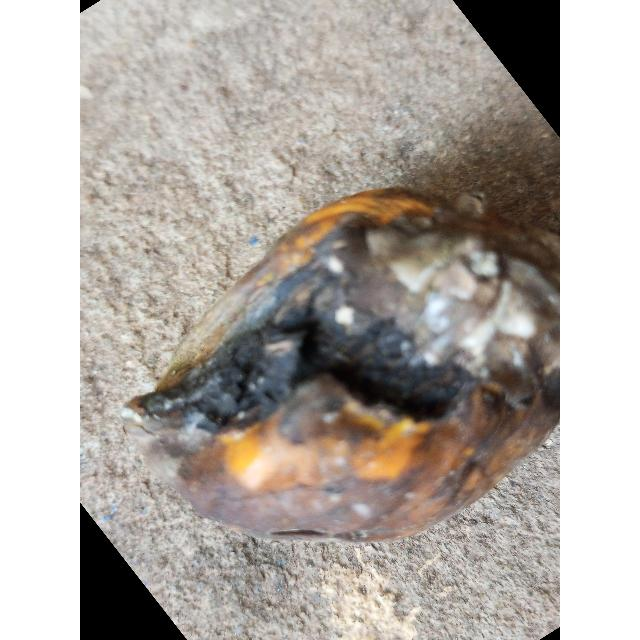damaged: (121, 185, 560, 546)
